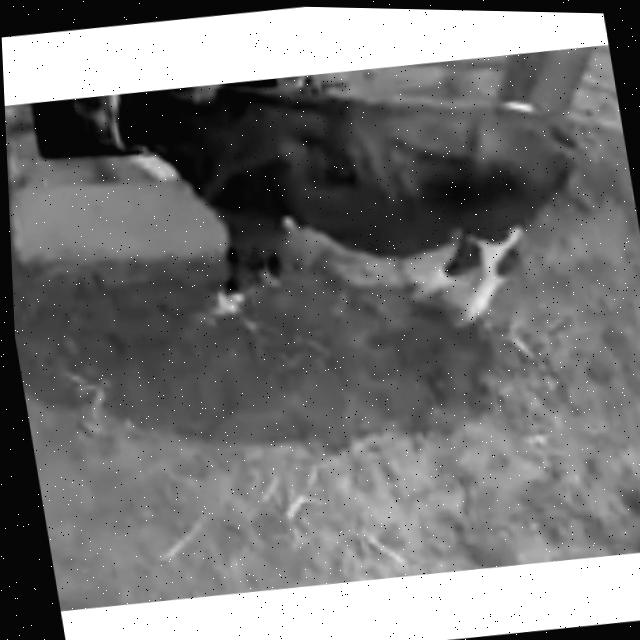drink: (46, 79, 225, 180)
